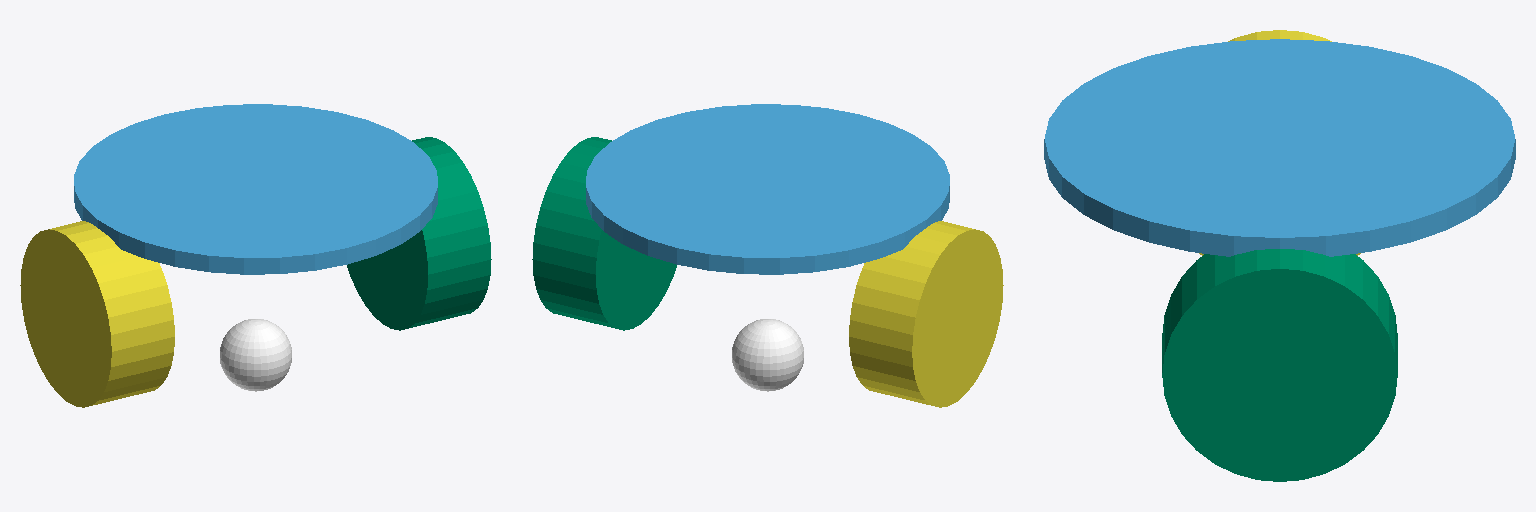
robot.urdf — my_car:
<robot name="my_car">

    <link name="foot_base_link">
        <visual>
            <origin xyz="0 0 0" rpy="0 0 0" />
            <geometry>
                <sphere radius="0.1" />
            </geometry>
            <material>
                <color rgba="10 10 50 1" /> 
            </material>            
        </visual>

    </link>

    <link name="base_link">
        <visual>
            <origin xyz="0 0 0.0" rpy="0 0 0"/>
            <geometry>
                <cylinder length="0.05" radius="0.5" />
            </geometry>
            <!-- <material>
                <color rgba="10 10 50 1" /> 
            </material>              -->
        </visual>
        <collision>
            <origin xyz="0 0 0.0" rpy="0 0 0"/>
            <geometry>
                <cylinder length="0.05" radius="0.5" />
            </geometry>
            <!-- <material>
                <color rgba="0.1 0.1 1.0 0.5" /> 
            </material> -->
        </collision>
        <inertial>
            <mass value="0.2"/>
            <inertia ixx="0.0125" ixy="0" ixz="0" iyy="0.0125" iyz="0" izz="0.025"/>
        </inertial>        
    </link>

    <joint name="base_to_foot" type="floating">
        <parent link="foot_base_link" />
        <child link="base_link" />
        <origin xyz="0 0 0.5" />
        <!-- <axis xyz="1 1 1" /> -->
    </joint> 


    <link name="1_link">
        <visual>
            <origin xyz="0 0 0" rpy="0 1.57079 0"/>
            <geometry>
                <cylinder length="0.2" radius="0.25"/>
            </geometry>
            <!-- <material>
                <color rgba="10 10 50 0.8" /> 
            </material> -->
        </visual>
        <collision>
            <origin xyz="0 0 0.0" rpy="0 1.57079 0"/>
            <geometry>
                <cylinder length="0.2" radius="0.25"/>
            </geometry>
            <!-- <material>
                <color rgba="0.1 0.1 1.0 0.5" /> 
            </material> -->
        </collision>
        <inertial>
            <mass value="0.1"/>
            <inertia ixx="0.0018" ixy="0" ixz="0" iyy="0.0018" iyz="0" izz="0.03"/>
        </inertial>        
    </link> 

    <joint name="base_to_1" type="continuous">
        <parent link="base_link" />
        <child link="1_link" />
        <origin xyz="0.5 0 -0.25" />
        <axis xyz="1 0 0" />
    </joint>

    <link name="2_link">
        <visual>
            <origin xyz="0 0 0" rpy="0 1.57079 0" />
            <geometry>
                <cylinder length="0.2" radius="0.25" />
            </geometry>
            <!-- <material>
                <color rgba="10 10 50 0.8" /> 
            </material>             -->
        </visual>
        <collision>
            <origin xyz="0 0 0" rpy="0 1.57079 0" />
            <geometry>
                <cylinder length="0.2" radius="0.25" />
            </geometry>
            <!-- <material>
                <color rgba="0.1 0.1 1.0 0.5" /> 
            </material> -->
        </collision>
        <inertial>
            <mass value="0.1"/>
            <inertia ixx="0.0018" ixy="0" ixz="0" iyy="0.0018" iyz="0" izz="0.03"/>
        </inertial>        
    </link>

    <joint name="base_to_2" type="continuous">
        <parent link="base_link" />
        <child link="2_link" />
        <origin xyz="-0.5 0 -0.25" />
        <axis xyz="1 0 0" />
    </joint>    

</robot>

--- What the picture shows (computed from the rendered views, not written in the file) ---
The picture shows the robot from 3 angles, left to right: view 1: azimuth 30°, elevation 25°; view 2: azimuth 150°, elevation 25°; view 3: azimuth 270°, elevation 25°; orthographic projection.
Model my_car with 4 links and 3 joints (2 continuous, 1 floating), rooted at foot_base_link, posed every joint at zero.
Visible links, largest first — view 1: base_link, 2_link, 1_link, foot_base_link; view 2: base_link, 2_link, 1_link, foot_base_link; view 3: base_link, 1_link, 2_link.
Boxes of the visible links, x1,y1,x2,y2 form: base_link: [74, 104, 437, 274]; 2_link: [20, 221, 174, 407]; 1_link: [347, 137, 491, 330]; foot_base_link: [220, 319, 291, 391]; base_link: [586, 104, 949, 274]; 2_link: [849, 221, 1003, 407]; 1_link: [532, 137, 676, 330]; foot_base_link: [732, 319, 803, 391]; base_link: [1044, 39, 1515, 256]; 1_link: [1162, 249, 1397, 481]; 2_link: [1199, 30, 1360, 255].
Bounding box of the posed robot: 1.2 × 1 × 0.625 m (x, y, z).
Geometry: primitives only (box / cylinder / sphere), no mesh files.